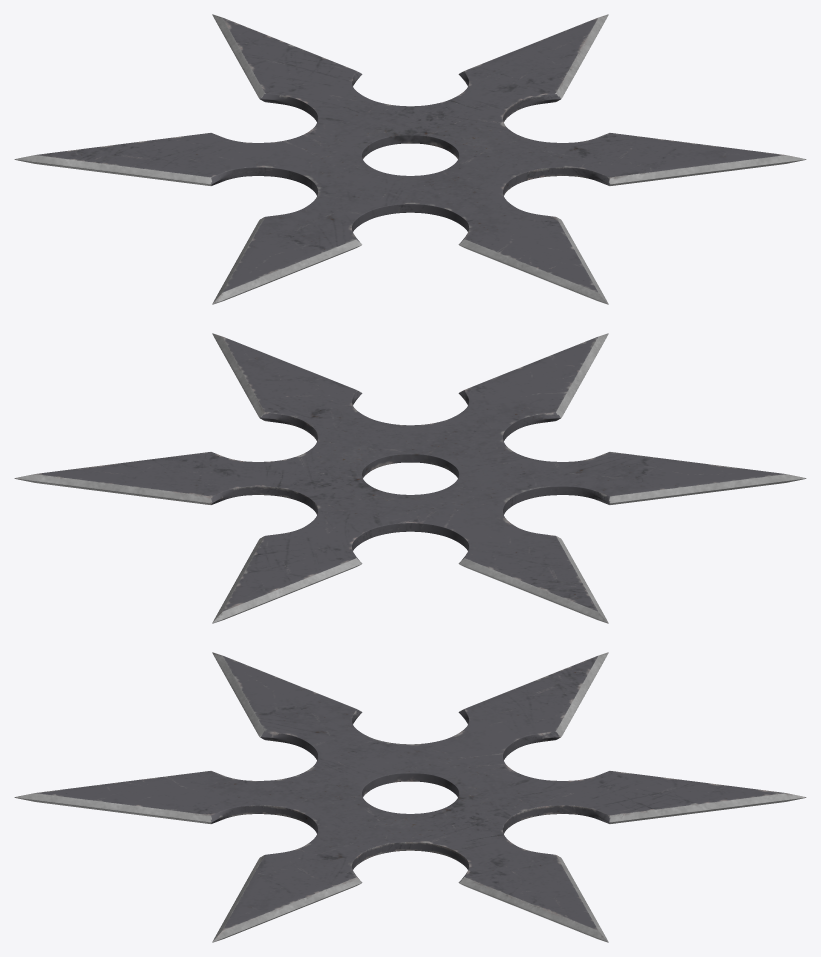
Rendered from shuriken_hp.fbx.
3 renders of one model, top to bottom at view 1: azimuth 30°, elevation 25°; view 2: azimuth 150°, elevation 25°; view 3: azimuth 270°, elevation 25°, orthographic.
Visible parts, largest first — view 1: Shuriken; view 2: Shuriken; view 3: Shuriken.
Part boxes in pixels (x1=…): Shuriken: x1=14, y1=14, x2=806, y2=304; Shuriken: x1=14, y1=333, x2=806, y2=623; Shuriken: x1=14, y1=652, x2=806, y2=942.
Size of the model in its own units: 17.06 by 0.2467 by 19.69.
